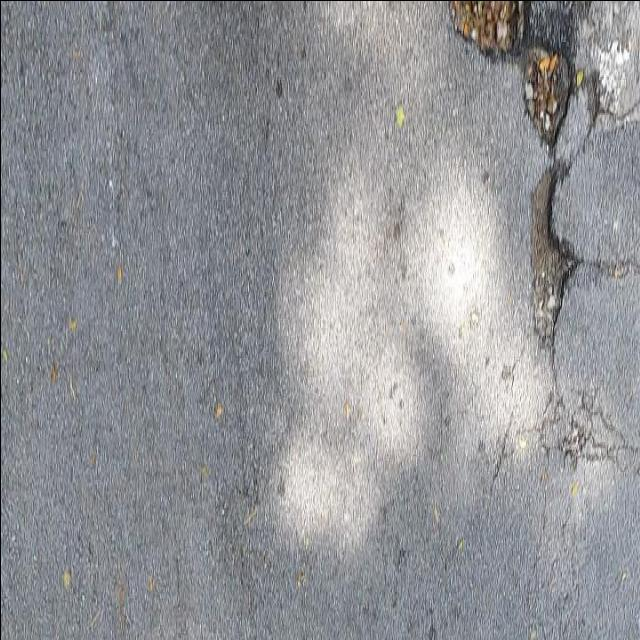potholes: (402, 0, 626, 549)
